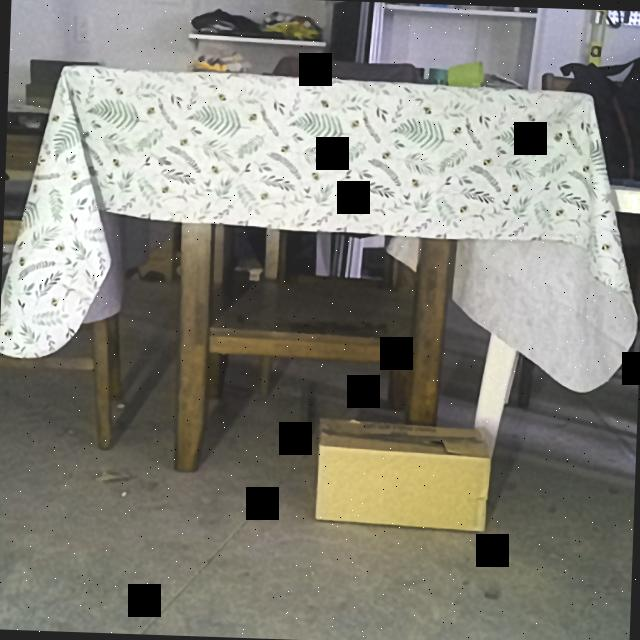box: (315, 449, 489, 527)
